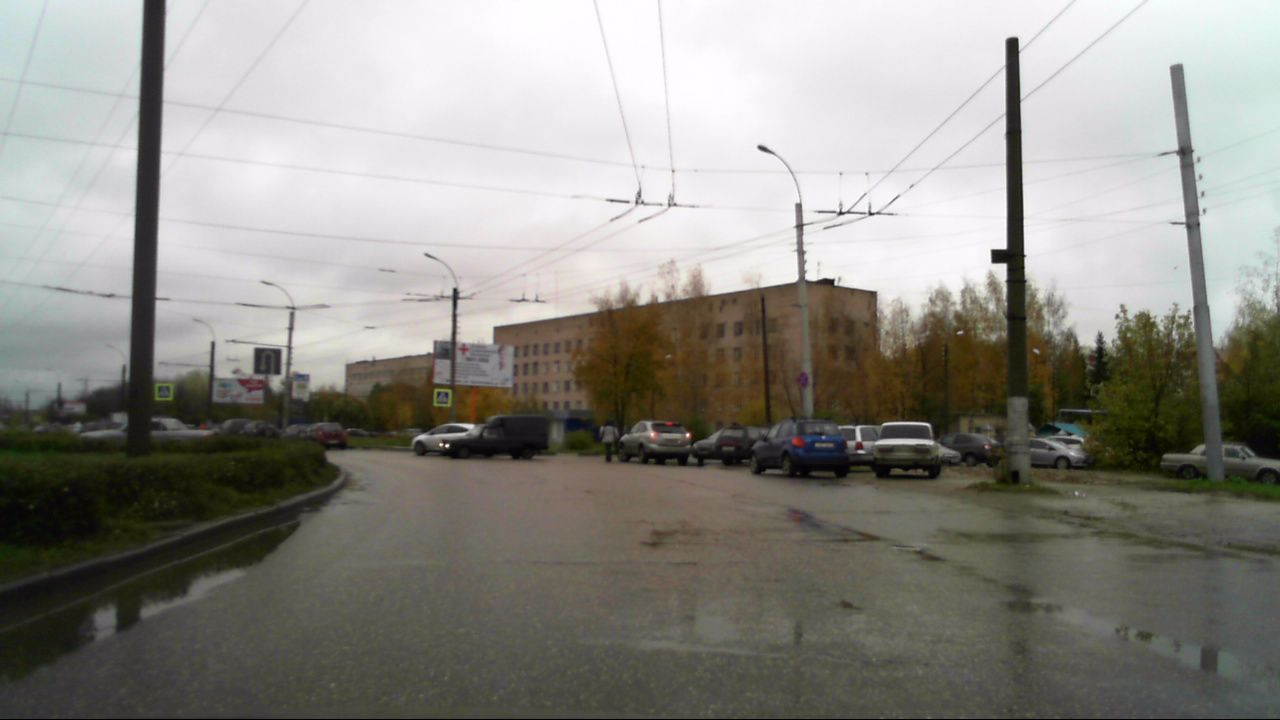U-turn: (254, 348, 281, 374)
